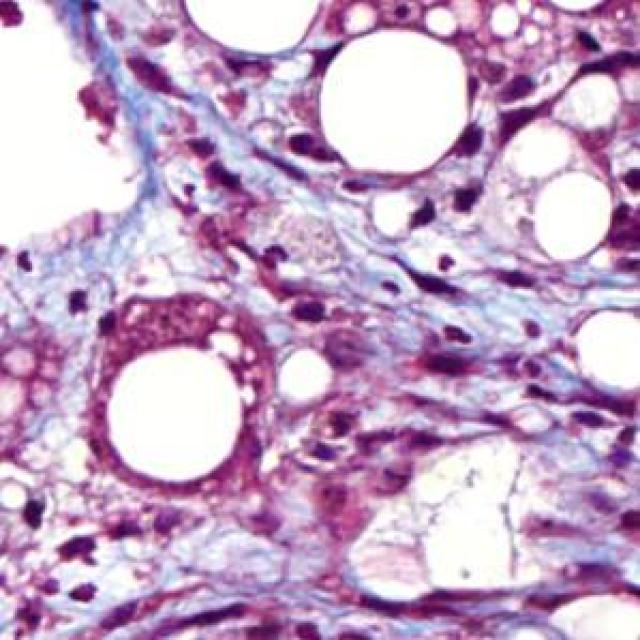steatosis: (316, 30, 466, 175), (105, 338, 244, 480)
